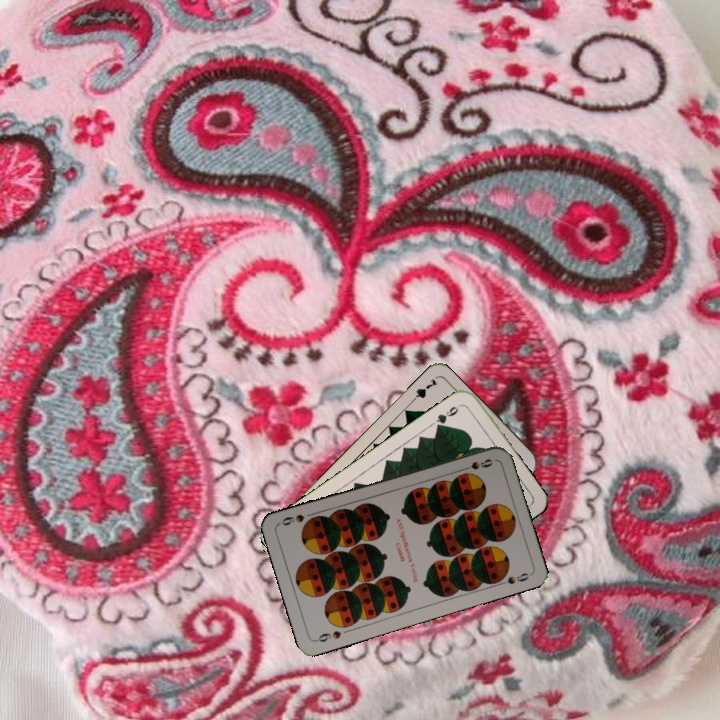G7: (406, 375, 440, 407)
G9: (432, 400, 464, 432)
S9: (456, 455, 496, 474), (312, 627, 344, 645)
